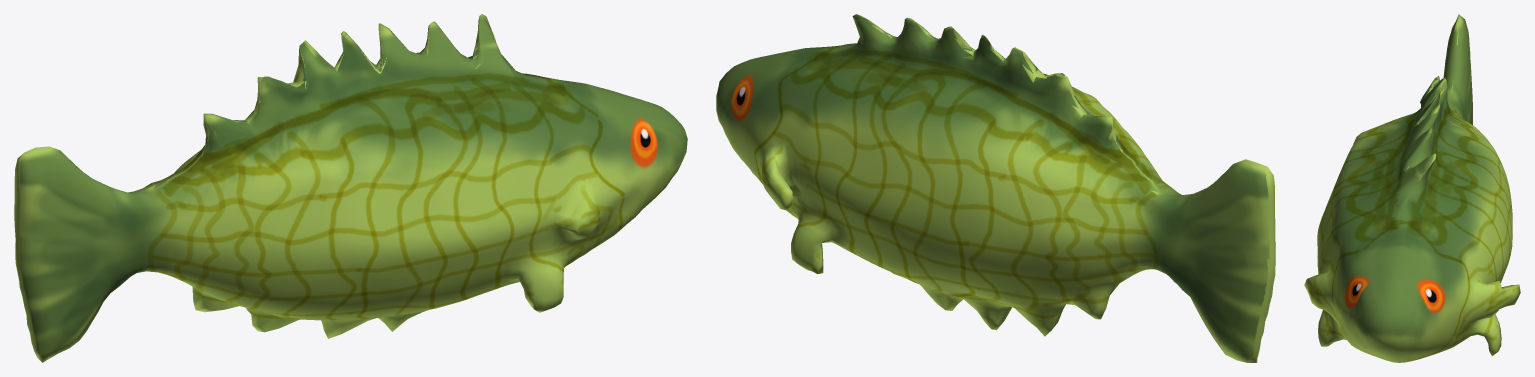
File: PezEscalador.fbx
3 views of the same model, side by side, from view 1: azimuth 30°, elevation 25°; view 2: azimuth 150°, elevation 25°; view 3: azimuth 270°, elevation 25° (orthographic). The views are drawn at different scales.
Parts seen in each view (by area): view 1: Plane; view 2: Plane; view 3: Plane.
Boxes of the visible parts, left/top/right/bottom form: Plane: left=14, top=14, right=687, bottom=362; Plane: left=716, top=14, right=1275, bottom=362; Plane: left=1304, top=14, right=1520, bottom=362.
Size of the model in its own units: 417 by 195 by 158.
